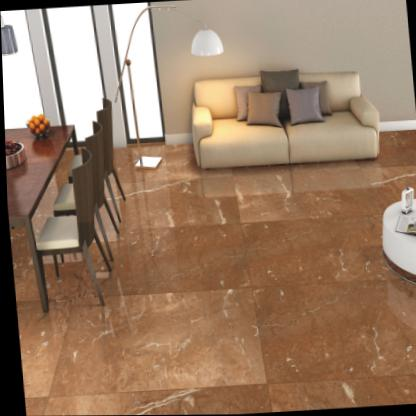Ceramic floor: (109, 162, 416, 415)
Dining Table: (3, 96, 126, 313)
Sofa: (184, 69, 385, 172)
